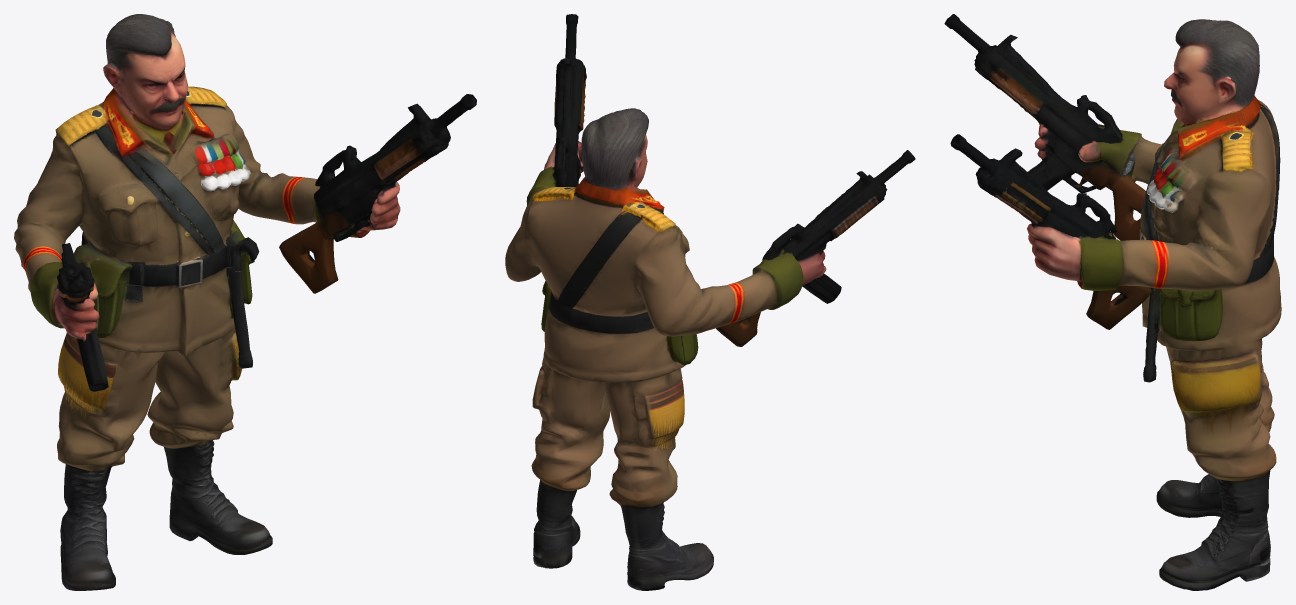
The model's file is hitler.glb.
3 renders of one model, left to right at view 1: azimuth 30°, elevation 25°; view 2: azimuth 150°, elevation 25°; view 3: azimuth 270°, elevation 25°, orthographic. The views are drawn at different scales.
Size of the model in its own units: 1.54 by 1.91 by 1.13.
1 material, 1 textured.
